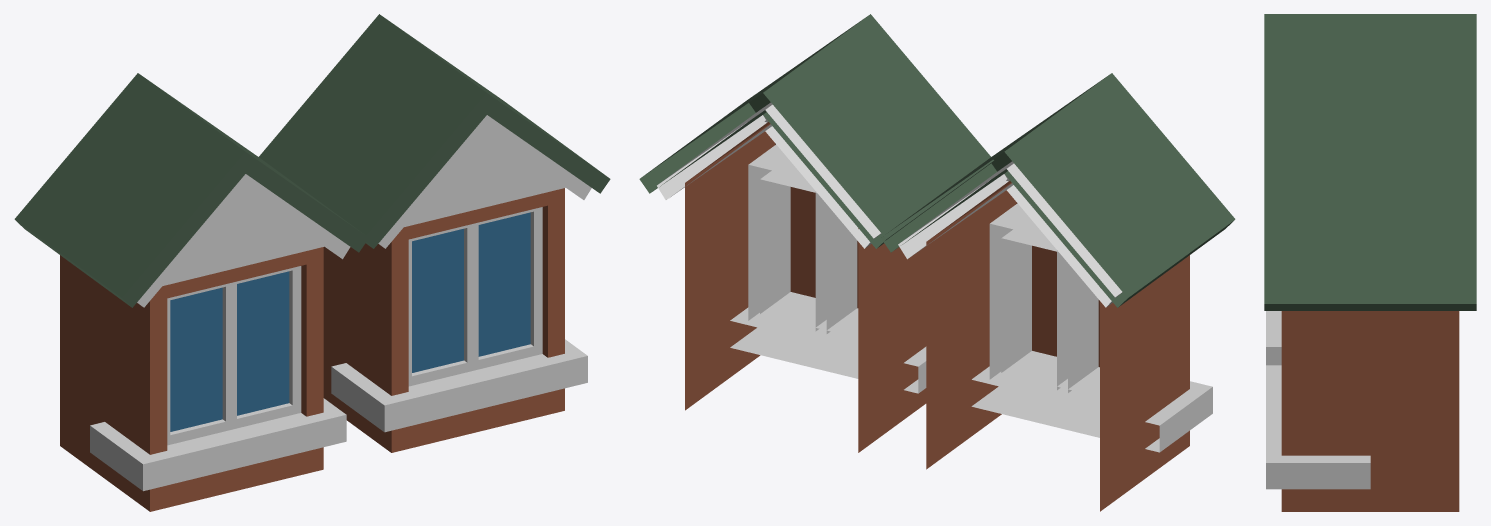
Rendered from RoofWindowSide-1-4.gltf.
3 views of the same model, side by side, from view 1: azimuth 30°, elevation 25°; view 2: azimuth 150°, elevation 25°; view 3: azimuth 270°, elevation 25° (orthographic).
Parts seen in each view (by area): view 1: RoofWindowSide-1-4; view 2: RoofWindowSide-1-4; view 3: RoofWindowSide-1-4.
Boxes of the visible parts, left/top/right/bottom form: RoofWindowSide-1-4: left=14, top=14, right=610, bottom=511; RoofWindowSide-1-4: left=639, top=14, right=1235, bottom=511; RoofWindowSide-1-4: left=1264, top=14, right=1476, bottom=511.
Size of the model in its own units: 3.48 by 2.35 by 1.33.
Materials: 2 (1 with a texture image).
